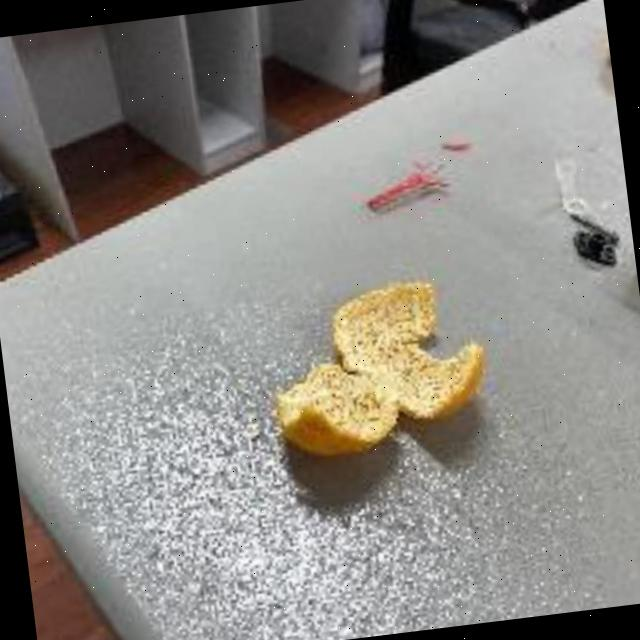orange-peel: (258, 270, 495, 465), (269, 354, 404, 464)
